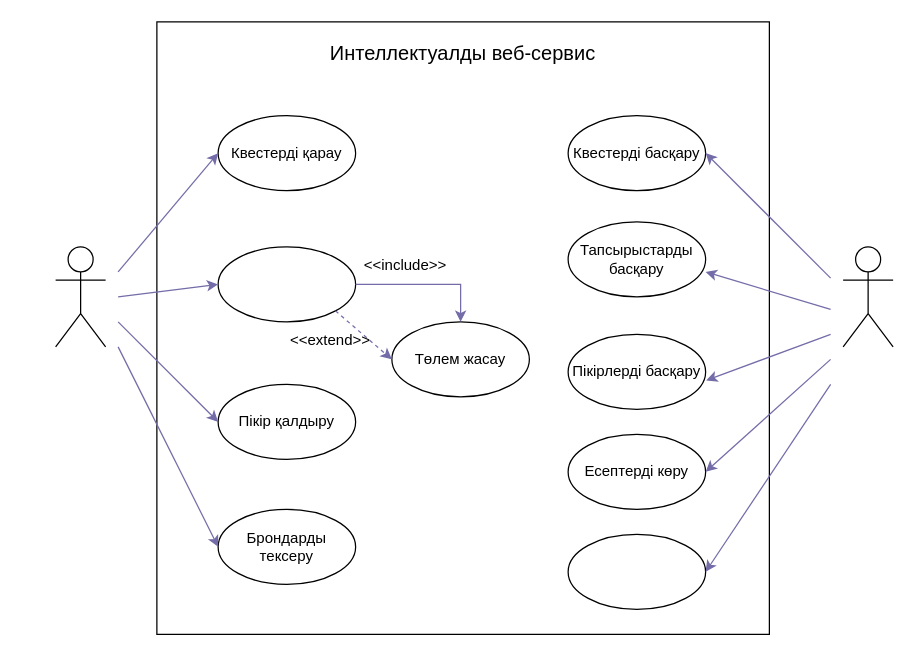
The diagram is 916 pixels wide and 656 high, and some of its shapes have lost their labels. Here are the shapes that lost their labels. From the top down, the box of each, then its label:
(54, 246, 106, 347): Пайдаланушы
(217, 246, 356, 322): Квестке тапсырыс беру
(842, 246, 893, 347): Әкімші
(567, 533, 706, 609): Пайдаланушыларды басқару
